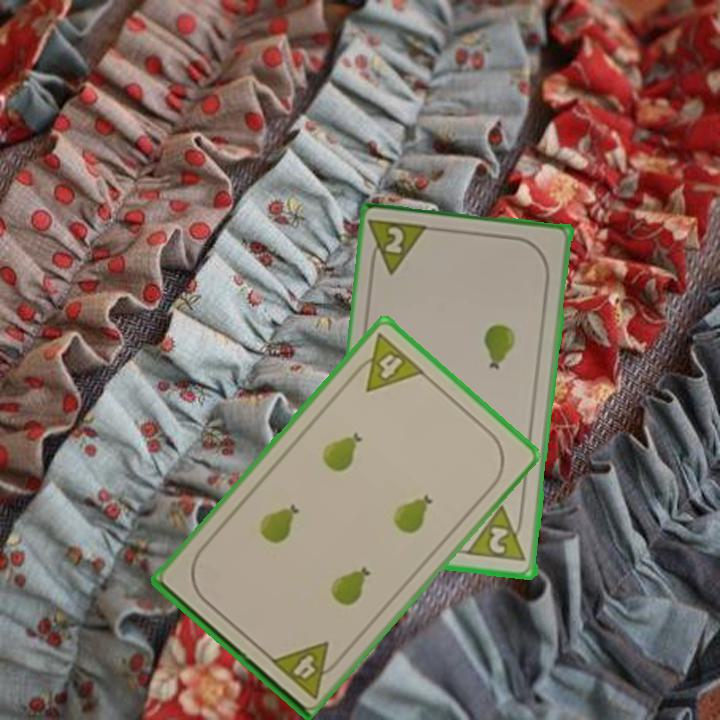2p: (366, 217, 433, 278), (465, 503, 529, 565)
4p: (346, 329, 427, 395), (266, 638, 346, 701)
